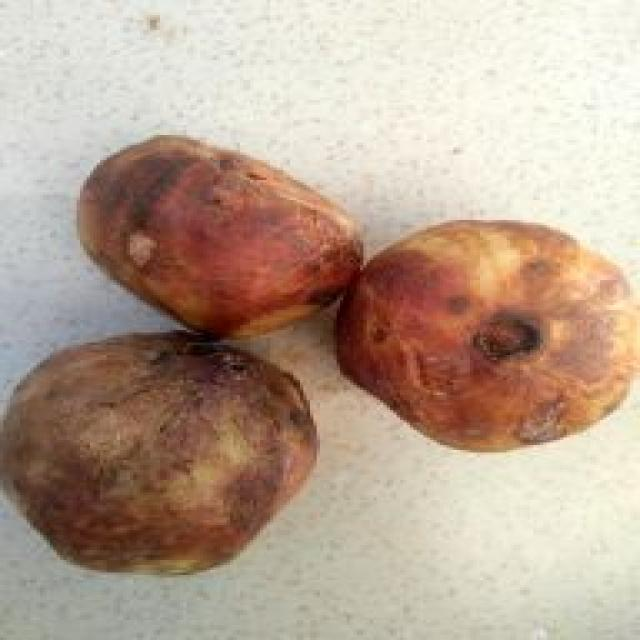Bad_Guava: (3, 331, 317, 573), (337, 220, 638, 449), (78, 135, 362, 337)
